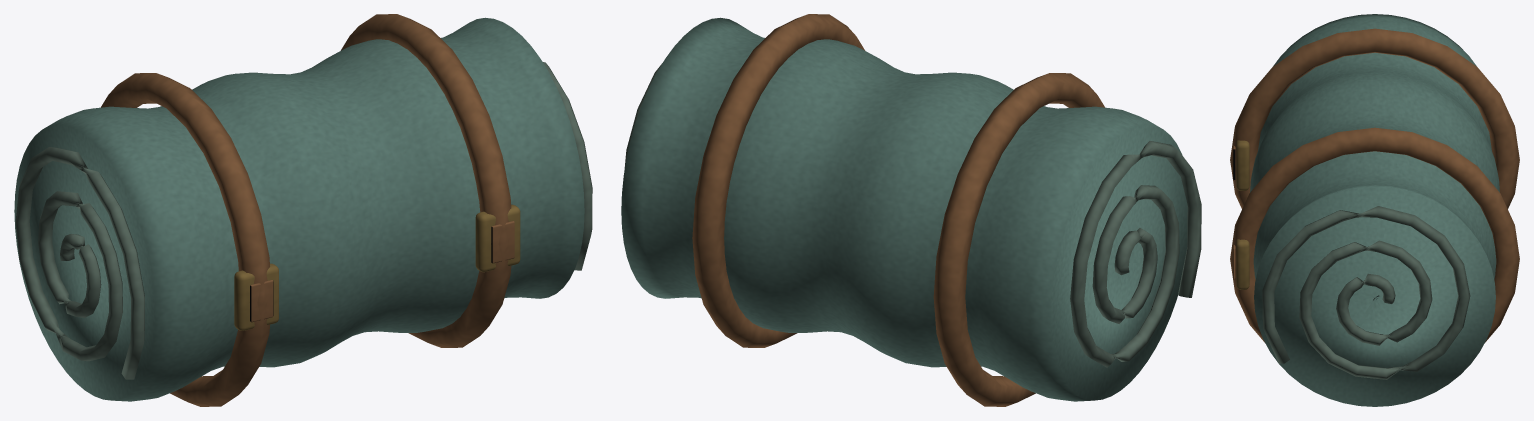
The model's file is 14_Rolled_Bedroll.glb.
The picture shows the model from 3 angles, left to right: view 1: azimuth 30°, elevation 25°; view 2: azimuth 150°, elevation 25°; view 3: azimuth 270°, elevation 25°; orthographic projection. The views are drawn at different scales.
Visible parts, largest first — view 1: 14_Rolled_Bedroll_Body; view 2: 14_Rolled_Bedroll_Body; view 3: 14_Rolled_Bedroll_Body.
Part boxes in pixels (x1,y1,x2,y2): 14_Rolled_Bedroll_Body: [14, 14, 592, 406]; 14_Rolled_Bedroll_Body: [621, 14, 1201, 406]; 14_Rolled_Bedroll_Body: [1230, 14, 1519, 406].
Size of the model in its own units: 0.84 by 0.544 by 0.544.
4 materials, 4 textured.
